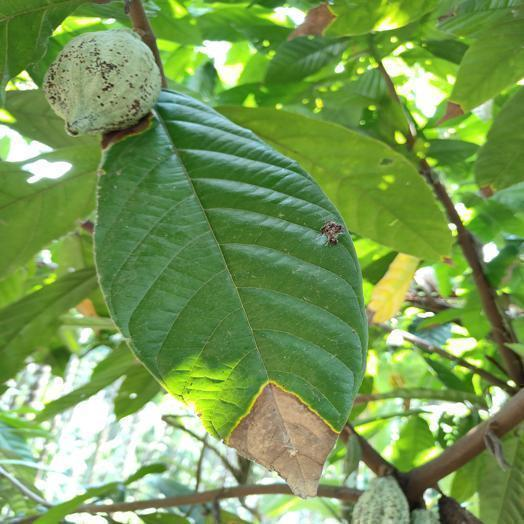Potassium: (94, 91, 366, 495)
